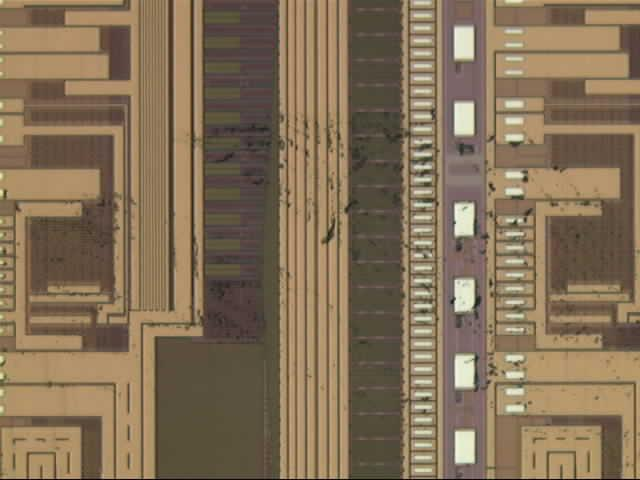PO CONTAMINATION: (18, 110, 640, 434)
